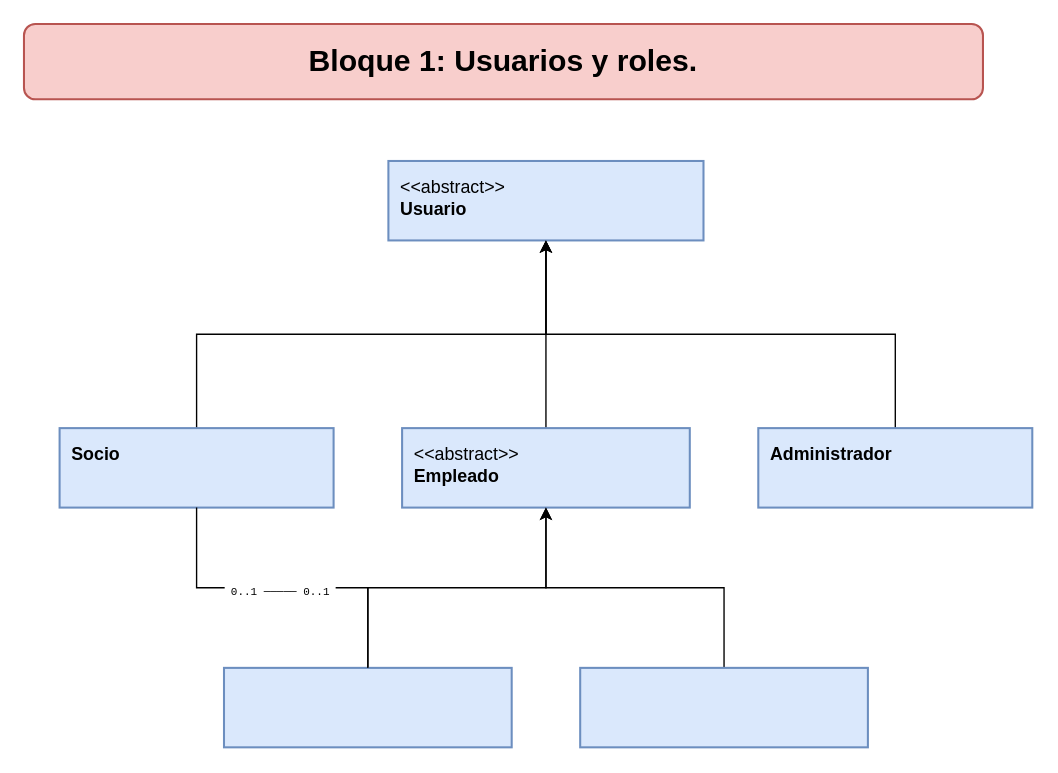
The diagram is 1058 pixels wide and 773 high, and some of its shapes have lost their labels. The centre of each missing label's shape, as x and y in pixels:
Entrenador: pixel 367 707
Fisioterapeuta: pixel 723 707
